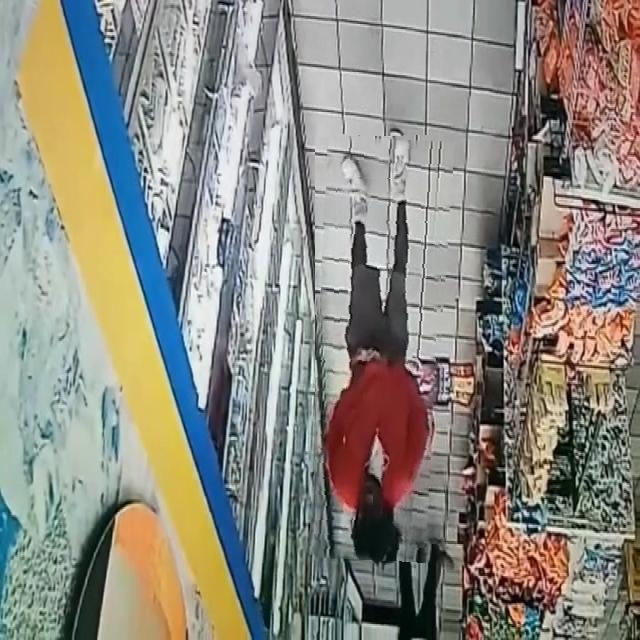Shoplifting: (315, 135, 447, 561)
